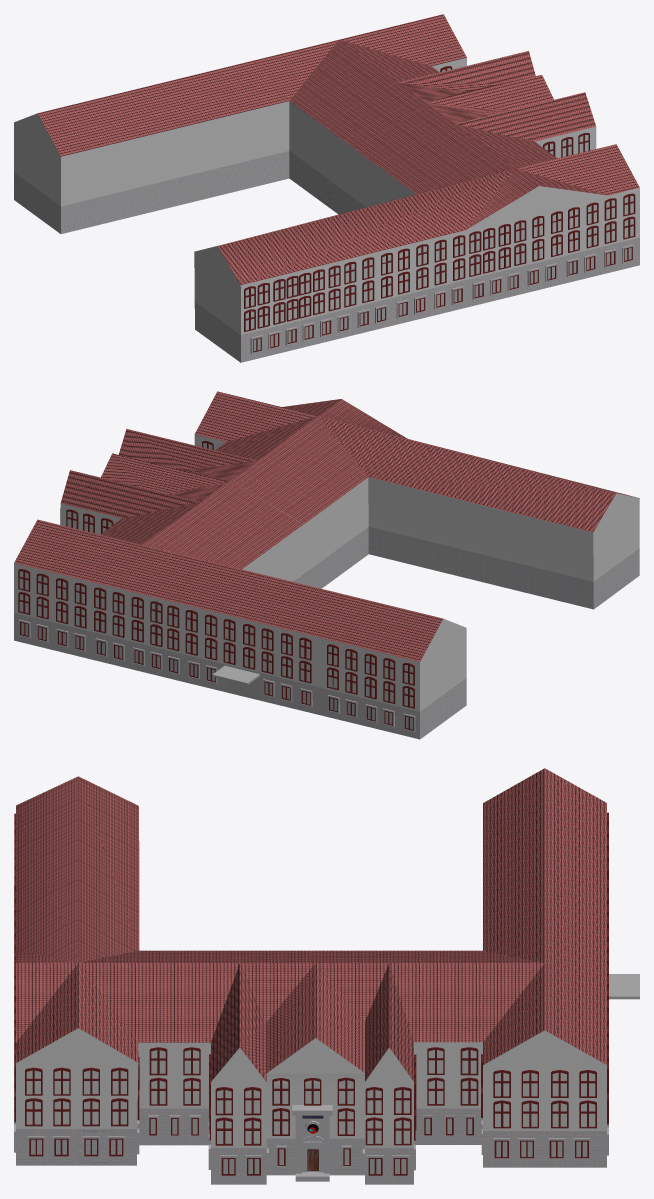
File: musikskiolan.fbx
3 views of the same model, one above another, from view 1: azimuth 30°, elevation 25°; view 2: azimuth 150°, elevation 25°; view 3: azimuth 270°, elevation 25° (orthographic). The views are drawn at different scales.
Visible parts, largest first — view 1: pCube13; view 2: pCube13, pCube27; view 3: pCube13, pCube4, pCube27.
Boxes of the visible parts, x1,y1,x2,y2 form: pCube13: (14, 14, 639, 362); pCube13: (14, 391, 639, 739); pCube27: (212, 665, 259, 684); pCube13: (16, 768, 606, 1184); pCube4: (292, 1105, 332, 1181); pCube27: (609, 974, 639, 999).
Size of the model in its own units: 1.74 by 0.4004 by 1.64.
